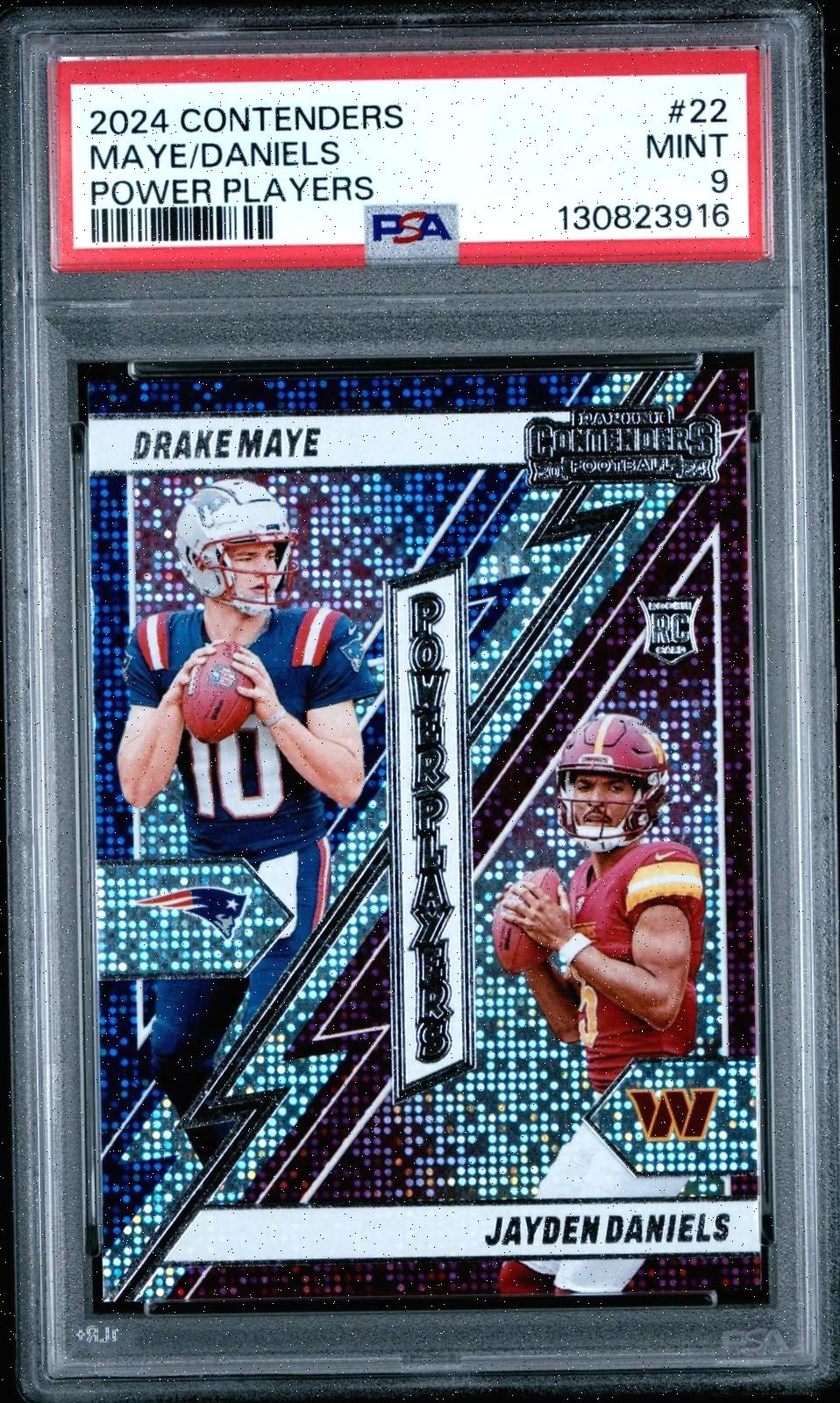card-2UtV: (86, 368, 762, 1303)
